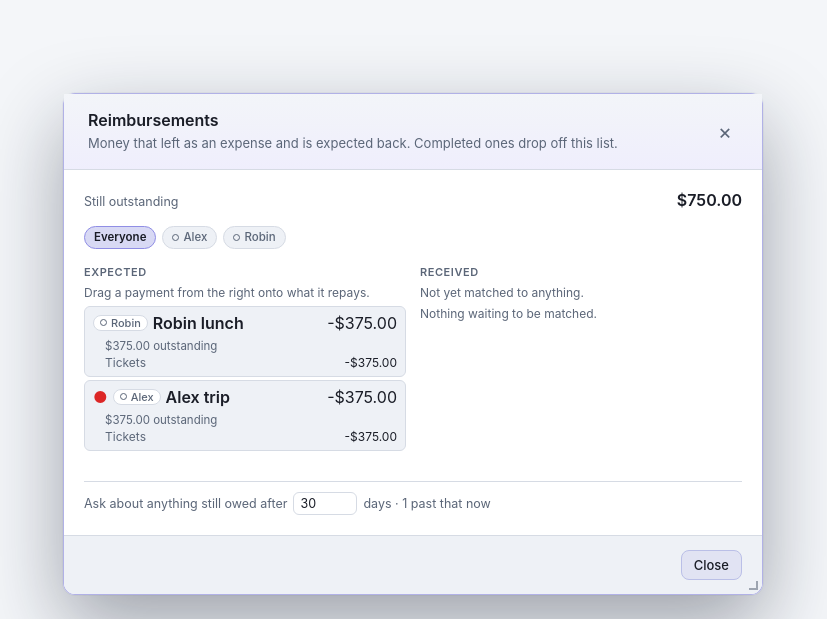
Test: opened from a reminder › narrows to one owner from the pills, and back
Click the button "Robin" at [254, 238], box [223,226,286,249]
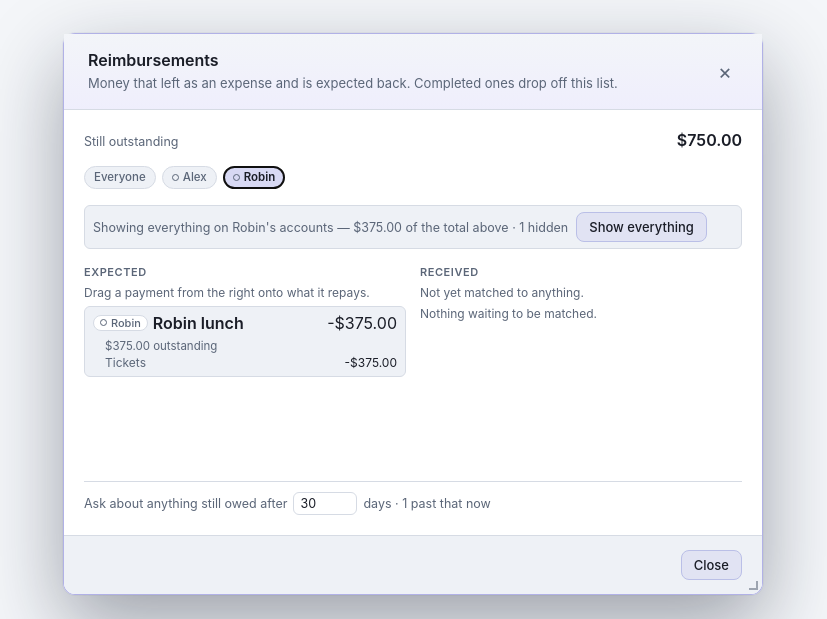
Expected: the text "Robin lunch" is shown, [153,313,244,333]
Now the button "Alex trip" is gone
Click the button "Everyone" at [120, 178], box [84,166,156,189]
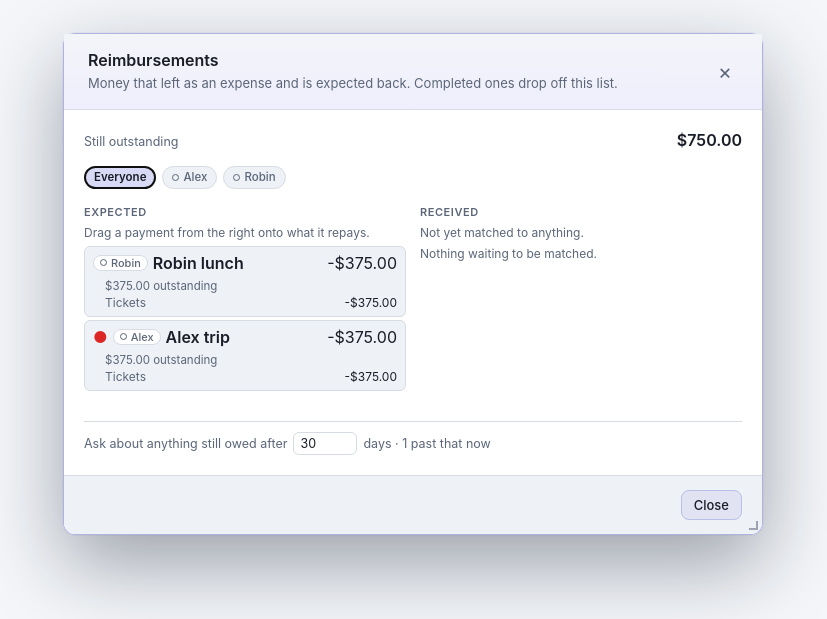
Now the text "Alex trip" is shown, box [166,327,230,347]
